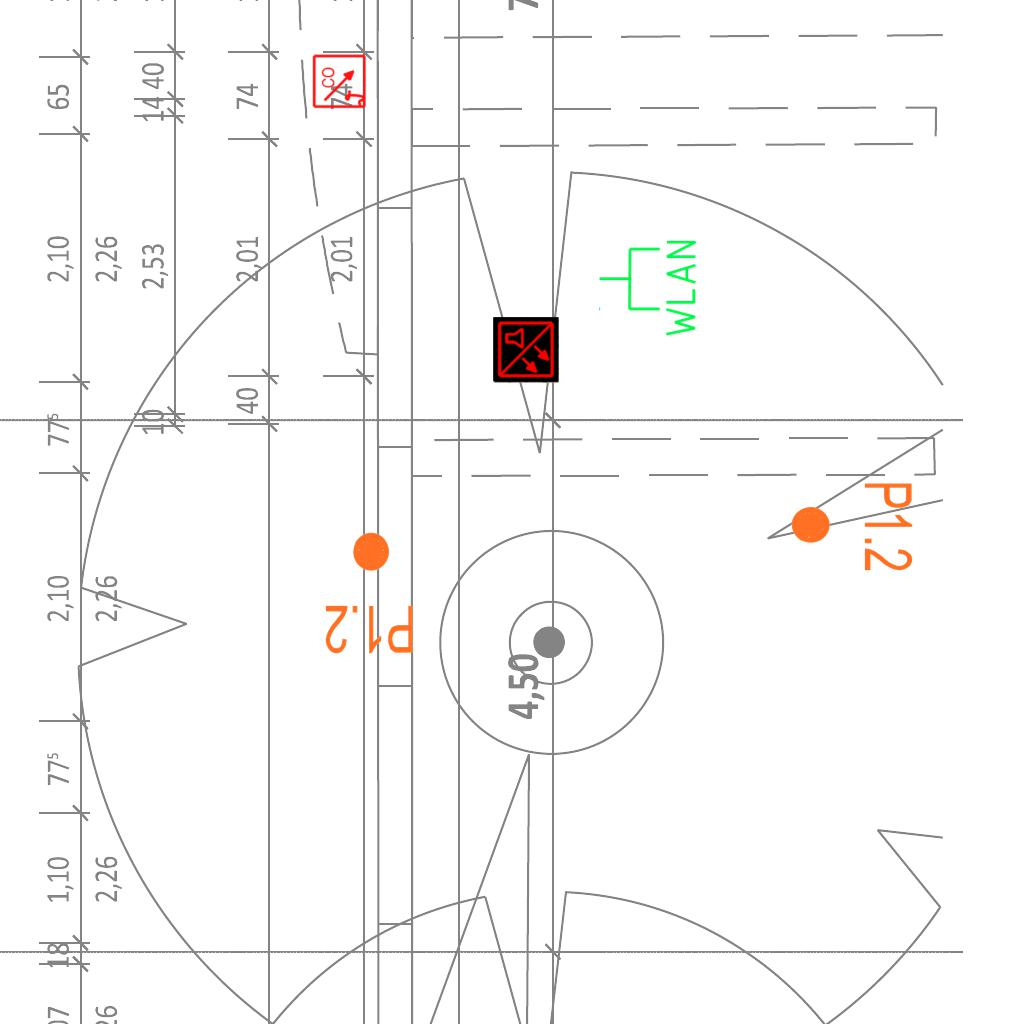Downlight_LED_Einbauleuchten_Flur: (788, 480, 916, 573), (323, 529, 416, 657)
OKW_Multisensormelder_(Kombination_optischer_Rauch-Kahlenmonoxid_Waerme-Melder): (493, 317, 559, 383)
ROA_Rauchmelder_optisch_mit_Signalgeber_(Sockelsirene): (312, 53, 368, 109)
WLAN: (596, 236, 700, 341)
